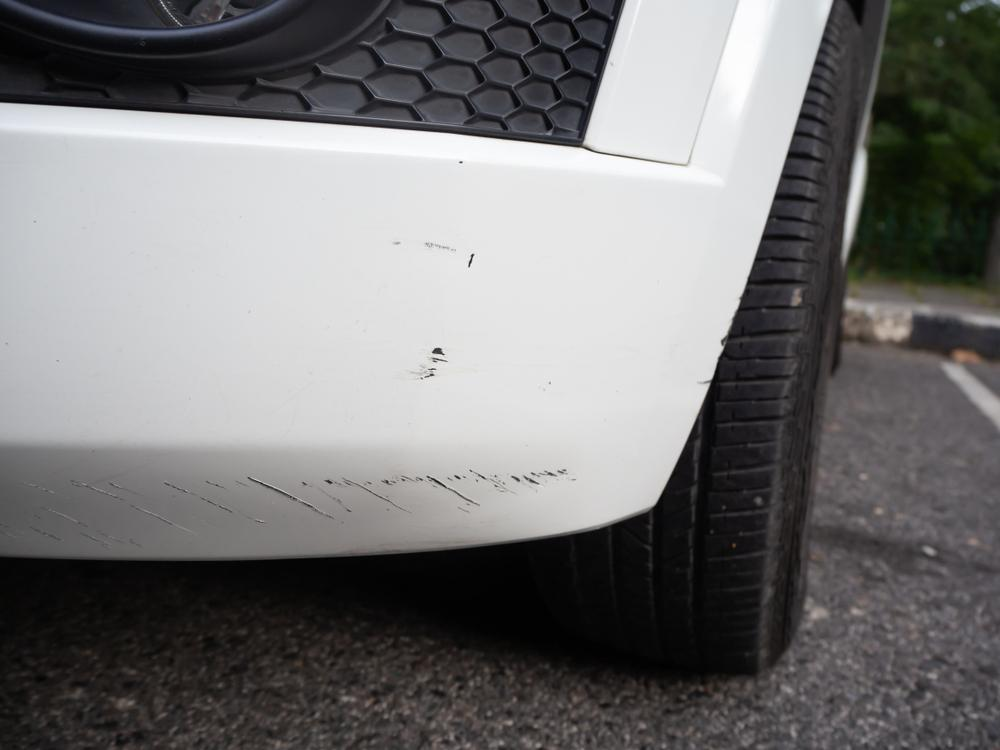scratch: (0, 456, 577, 543), (386, 230, 487, 275), (399, 338, 450, 389)
